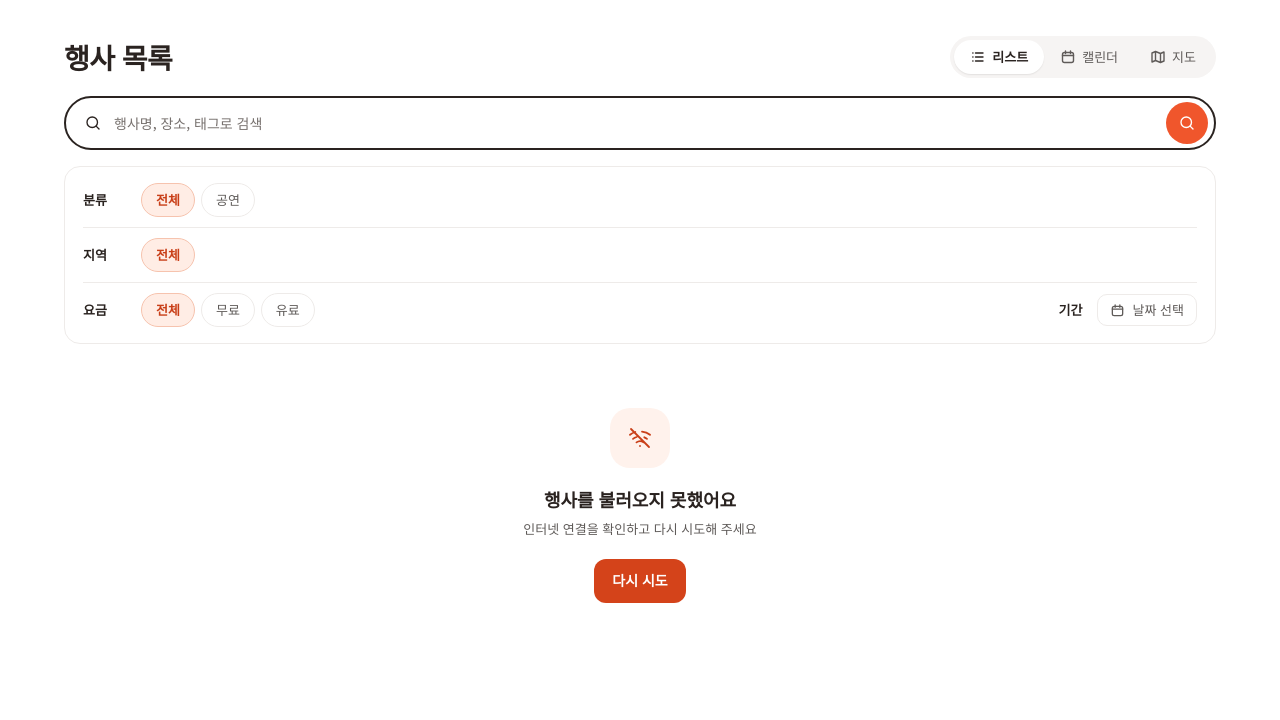
Test: EventList › 실패하면 B6 오류 상태에서 다시 시도할 수 있다
The width and height of the screenshot is (1280, 720).
Expected: the heading "행사를 불러오지 못했어요" is shown, [544,486,736,512]
Step 1. Click the button "다시 시도" → (640, 580), box [594,558,686,602]
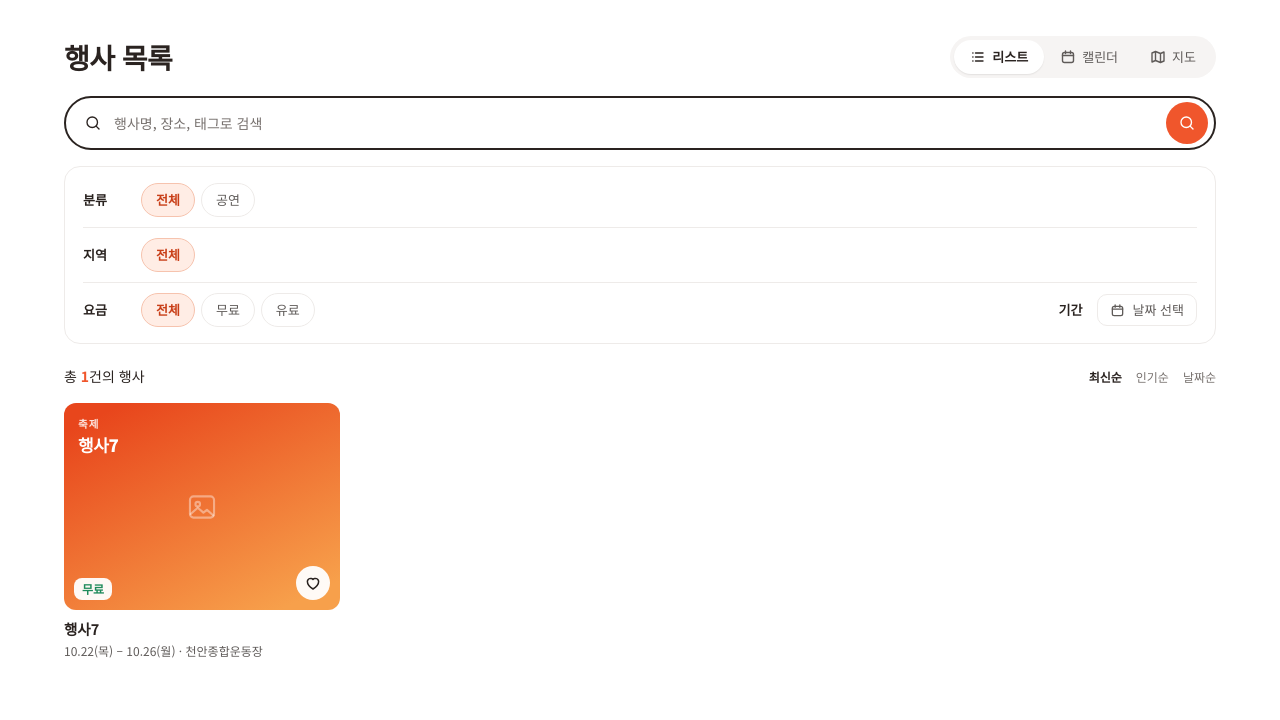
Now the link "행사7" is shown, box [64,618,99,639]
